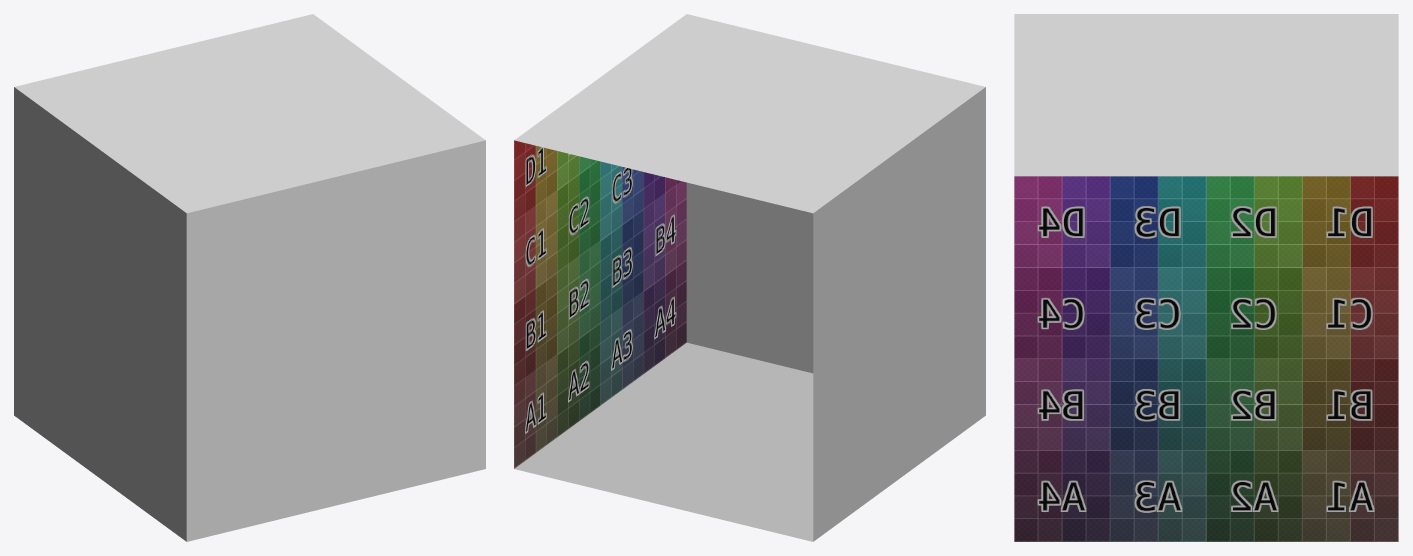
Rendered from Shinyspheres.fbx.
The picture shows the model from 3 angles, left to right: view 1: azimuth 30°, elevation 25°; view 2: azimuth 150°, elevation 25°; view 3: azimuth 270°, elevation 25°; orthographic projection. The views are drawn at different scales.
Visible parts, largest first — view 1: gB shinyspheres, gB shinyspheres floor; view 2: gB shinyspheres floor, gB shinyspheres, gB shinyspheres texturewall; view 3: gB shinyspheres texturewall, gB shinyspheres.
Part boxes in pixels (x1,y1,x2,y2): gB shinyspheres: [14, 14, 485, 541]; gB shinyspheres floor: [14, 87, 186, 541]; gB shinyspheres floor: [514, 87, 985, 541]; gB shinyspheres: [514, 14, 985, 373]; gB shinyspheres texturewall: [514, 140, 686, 468]; gB shinyspheres texturewall: [1014, 176, 1398, 541]; gB shinyspheres: [1014, 14, 1398, 176].
Bounding box in the file's own units: 200 × 210 × 200.
